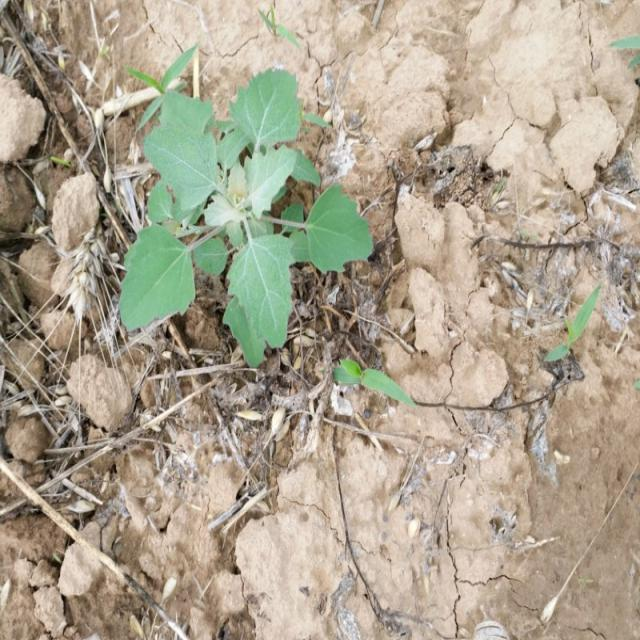goosefoots: (102, 91, 358, 339)
